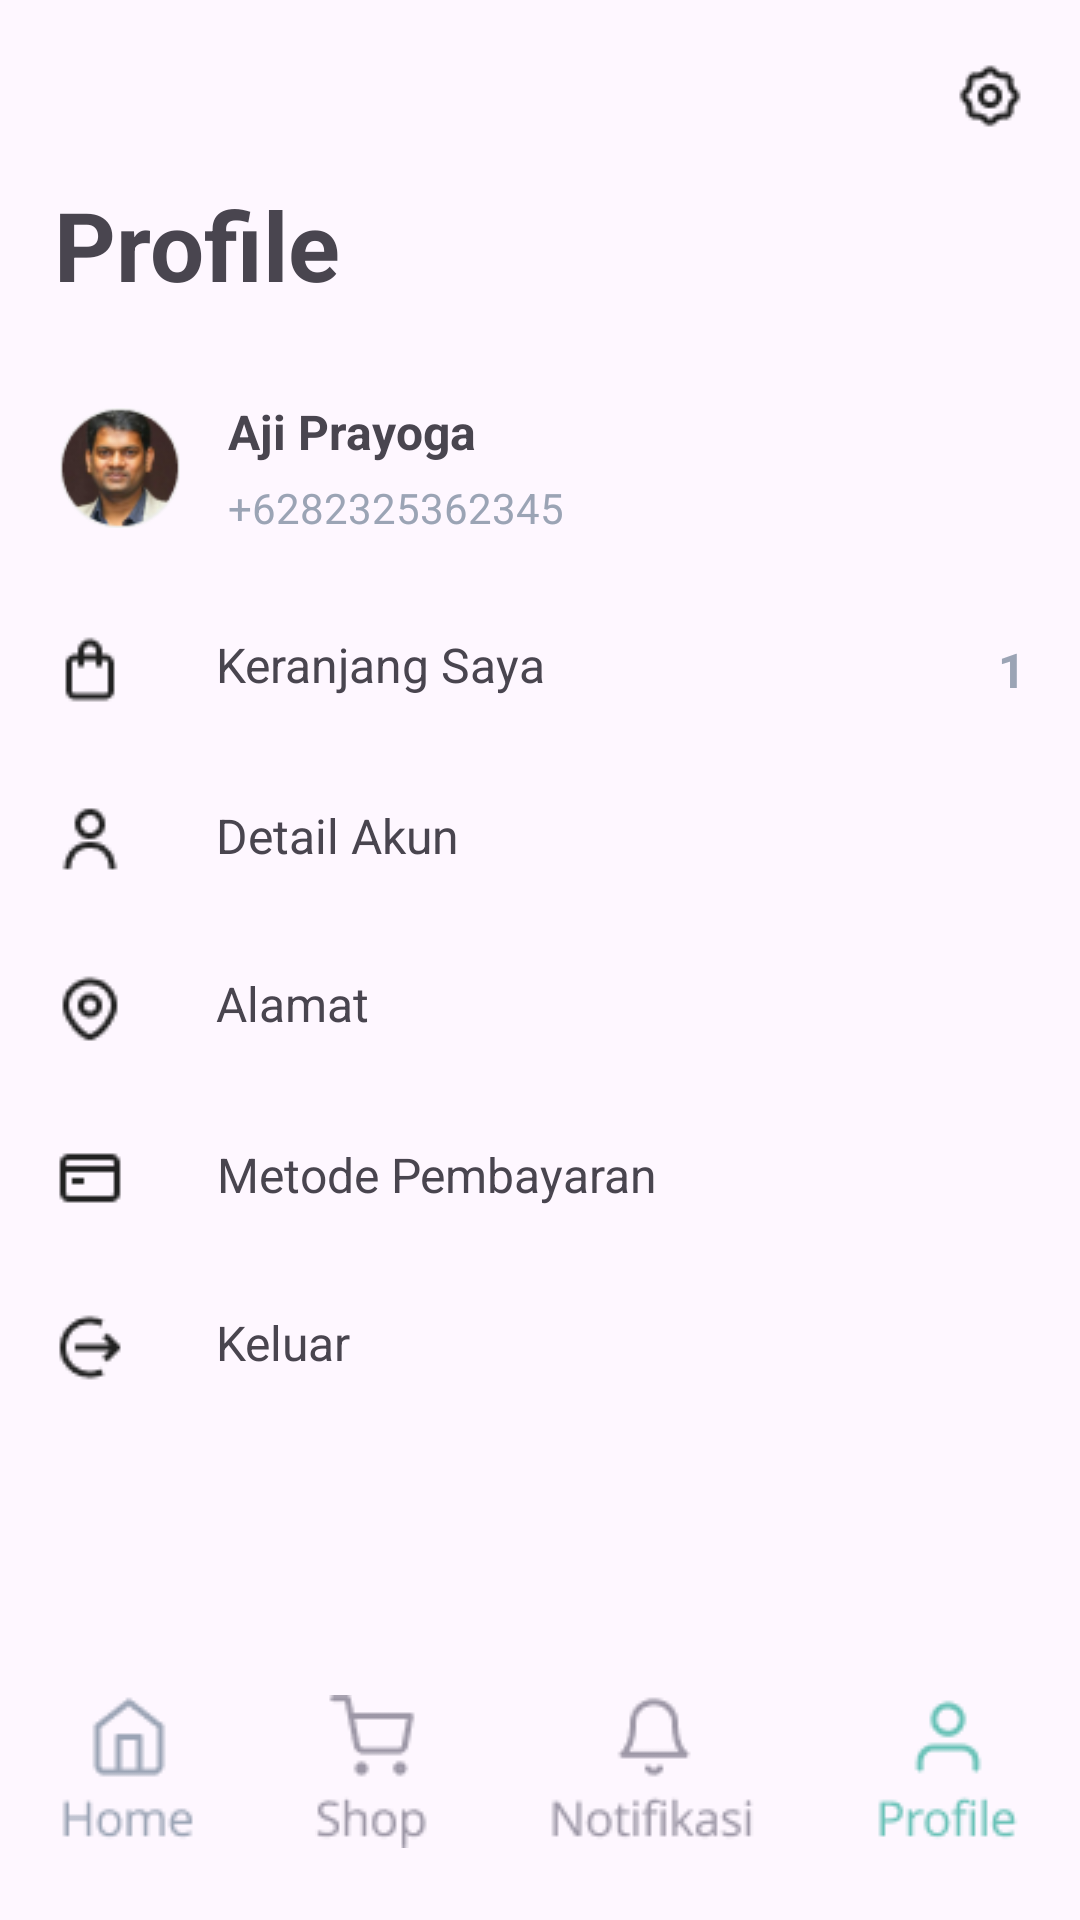

Where to tap for icons on this 1080px x 1920px app screen, as point (x, y):
settings: point (990, 96)
